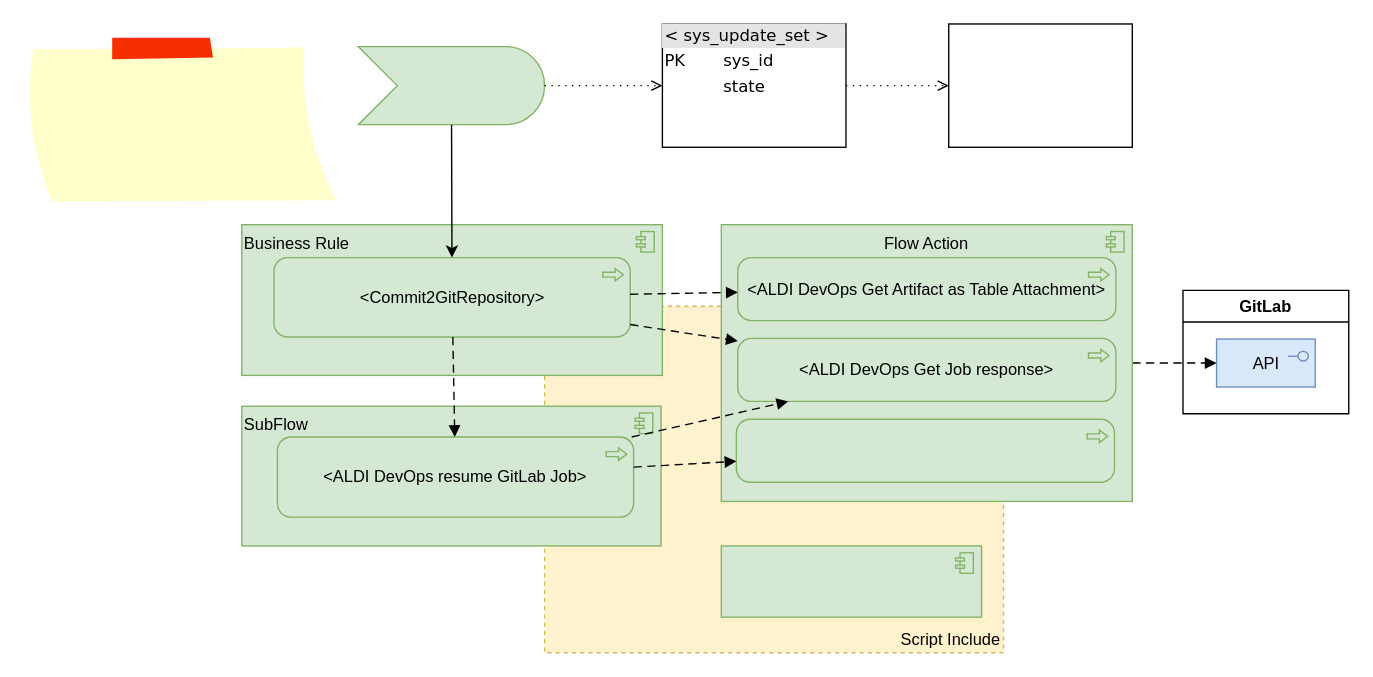
This 1373x677 diagram has some shape labels left out. The shapes that lost their labels are listed below. From the top down, each one's centre as x and y in pixels, then its label:
At (451,85): "Update Set completed".
At (1039,85): "< sys_update_xml > PK sys_id payload name".
At (181,119): "Branch and only after pipeline to Master?".
At (924,450): "<ALDI DevOps GitLab REST call>".
At (851,581): "ALDIDevOpsSrGitLab".
